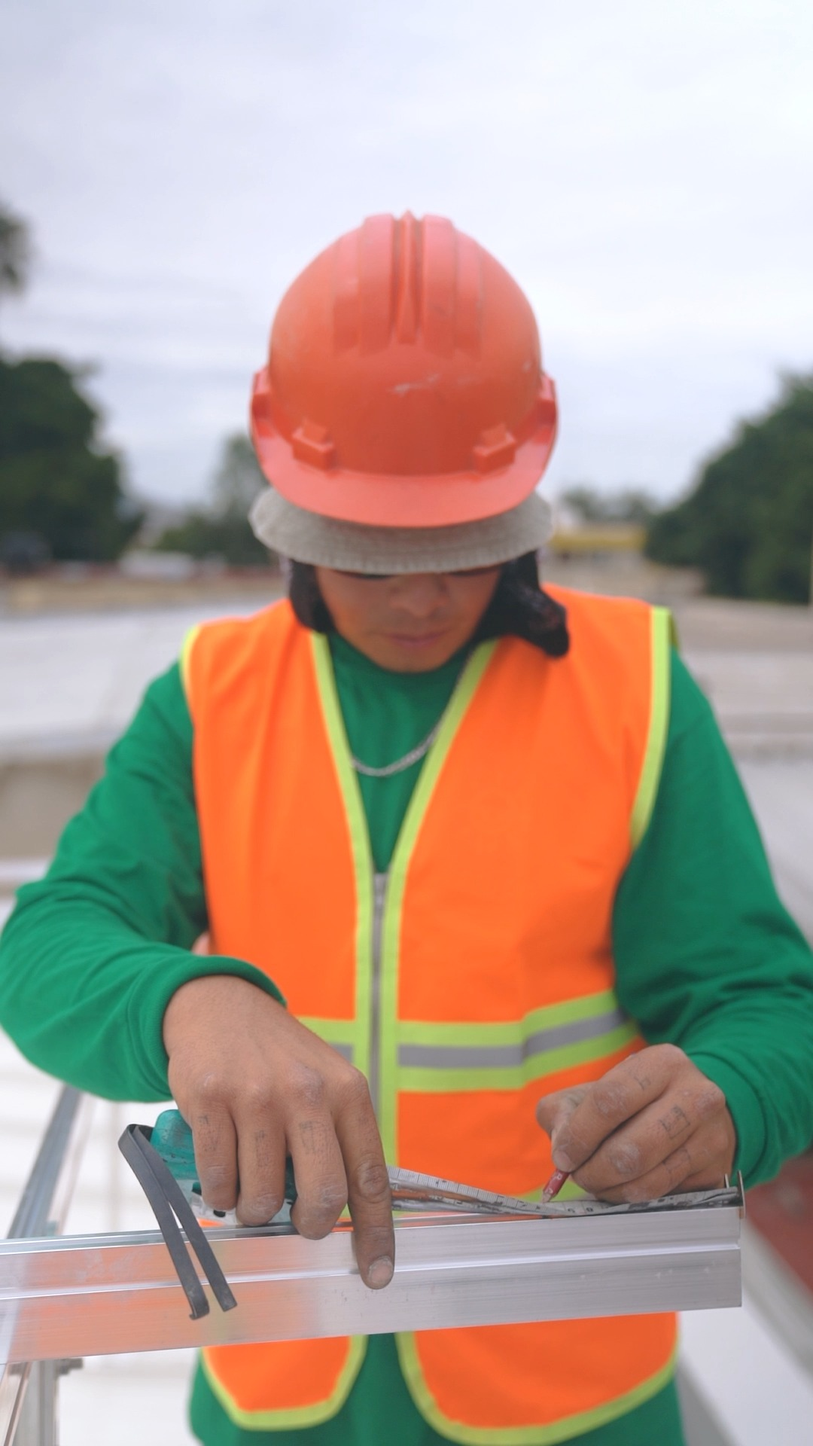No-gloves: (148, 977, 439, 1335), (520, 1036, 758, 1213)
